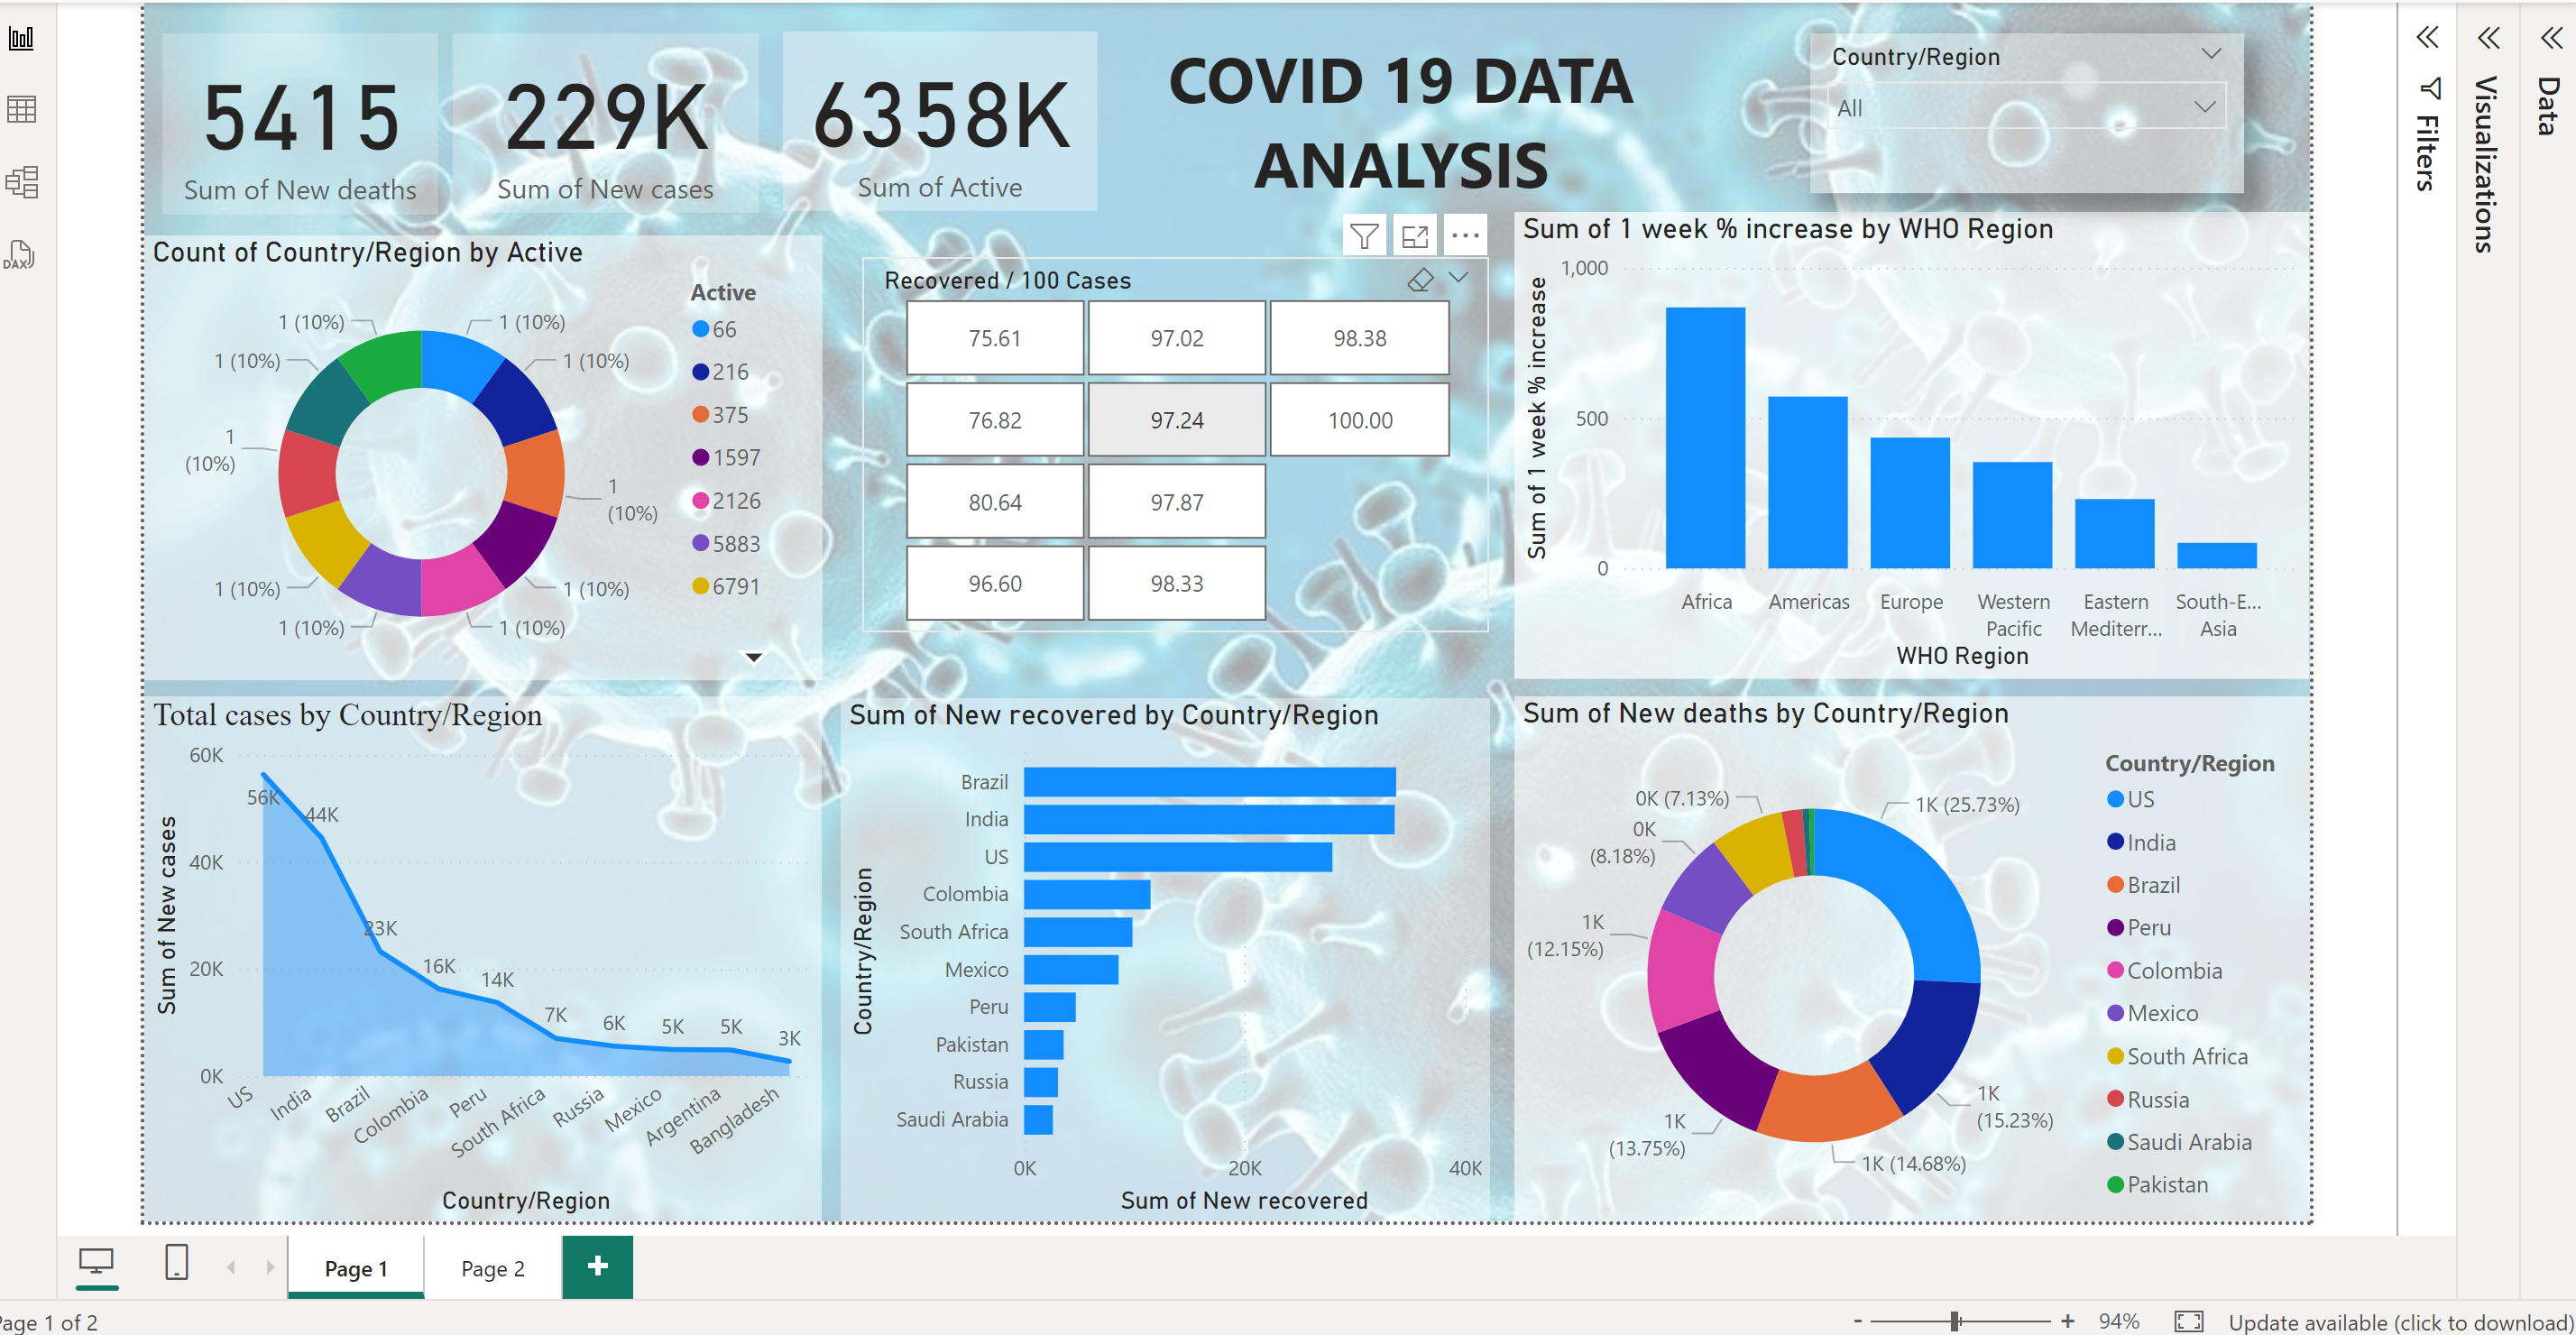

This screenshot's page, from the dashboard's own definition file:
{"tool":"powerbi","page":{"name":"Page 1","canvas":[1280,720],"ordinal":0},"visuals":[{"type":"areaChart","title":"Total cases by Country/Region","fields":{"Category":["Sheet1.Country/Region"],"Y":["Sum(Sheet1.New cases)"]},"box":[0,409.2,400.3,311.1],"z":0},{"type":"donutChart","fields":{"Category":["Sheet1.Active"],"Y":["CountNonNull(Sheet1.Country/Region)"]},"box":[0,137.1,400.9,262.7],"z":1000},{"type":"donutChart","fields":{"Category":["Sheet1.Country/Region"],"Y":["Sum(Sheet1.New deaths)"]},"box":[809.6,409.2,470.4,311.1],"z":2000},{"type":"clusteredColumnChart","fields":{"Category":["Sheet1.WHO Region"],"Y":["Sum(Sheet1.1 week % increase)"]},"box":[809.9,124,469.8,275.3],"z":3000},{"type":"barChart","fields":{"Category":["Sheet1.Country/Region"],"Y":["Sum(Sheet1.New recovered)"]},"box":[411.8,410.5,383.7,309.8],"z":4000},{"type":"card","fields":{"Values":["Sum(Sheet1.New deaths)"]},"box":[10.2,17.8,163.2,107.1],"z":5000},{"type":"slicer","fields":{"Values":["Sheet1.Country/Region"]},"box":[984.2,17.8,256.3,94.3],"z":6000},{"type":"card","fields":{"Values":["Sum(Sheet1.New cases)"]},"box":[182,18.4,180.9,106],"z":7000},{"type":"slicer","fields":{"Values":["Sheet1.Recovered / 100 Cases"]},"box":[424.3,150.1,370.8,221.8],"z":8000},{"type":"textbox","box":[576.3,14,334,110.9],"z":9000},{"type":"card","fields":{"Values":["Sum(Sheet1.Active)"]},"box":[377.4,16.6,186.1,105.8],"z":10000}]}

Visuals, with their boxes on the page's 1280x720 design canvas (x1, y1, x2, y2). These are canvas units, not pixel positions in the 2576x1335 screenshot, which may show the page scaled, cropped or inside an application window:
"Total cases by Country/Region" areaChart: [left=0, top=409, right=400, bottom=720]
donutChart - Sheet1.Active x CountNonNull(Sheet1.Country/Region): [left=0, top=137, right=401, bottom=400]
donutChart - Sheet1.Country/Region x Sum(Sheet1.New deaths): [left=810, top=409, right=1280, bottom=720]
clusteredColumnChart - Sheet1.WHO Region x Sum(Sheet1.1 week % increase): [left=810, top=124, right=1280, bottom=399]
barChart - Sheet1.Country/Region x Sum(Sheet1.New recovered): [left=412, top=410, right=796, bottom=720]
card - Sum(Sheet1.New deaths): [left=10, top=18, right=173, bottom=125]
slicer - Sheet1.Country/Region: [left=984, top=18, right=1240, bottom=112]
card - Sum(Sheet1.New cases): [left=182, top=18, right=363, bottom=124]
slicer - Sheet1.Recovered / 100 Cases: [left=424, top=150, right=795, bottom=372]
textbox: [left=576, top=14, right=910, bottom=125]
card - Sum(Sheet1.Active): [left=377, top=17, right=564, bottom=122]
